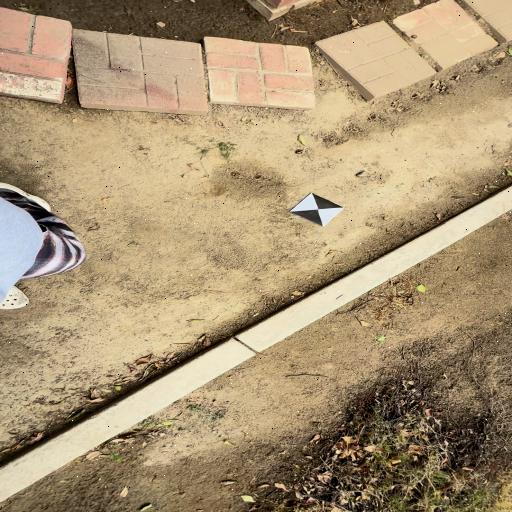target: (290, 193, 344, 226)
